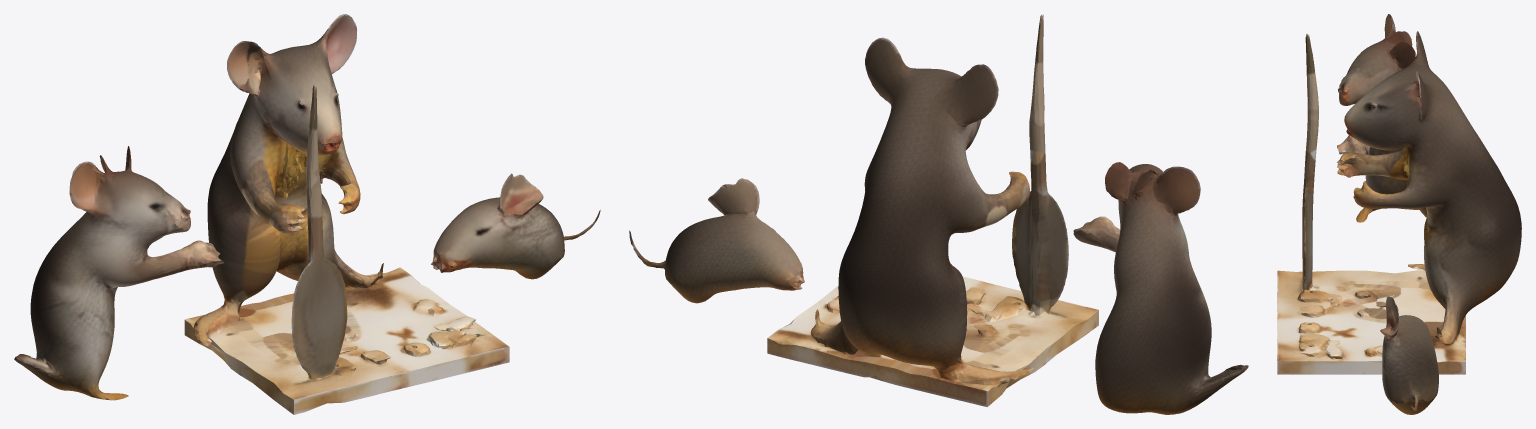
The picture shows the model from 3 angles, left to right: view 1: azimuth 30°, elevation 25°; view 2: azimuth 150°, elevation 25°; view 3: azimuth 270°, elevation 25°; orthographic projection. The views are drawn at different scales.
Parts seen in each view (by area): view 1: FinalGambit; view 2: FinalGambit; view 3: FinalGambit.
Part boxes in pixels (x1,y1,x2,y2): FinalGambit: (14, 14, 600, 414); FinalGambit: (629, 14, 1248, 414); FinalGambit: (1277, 14, 1521, 414).
Bounding box in the file's own units: 1.9 × 0.9453 × 0.783.
1 material, 1 textured.
